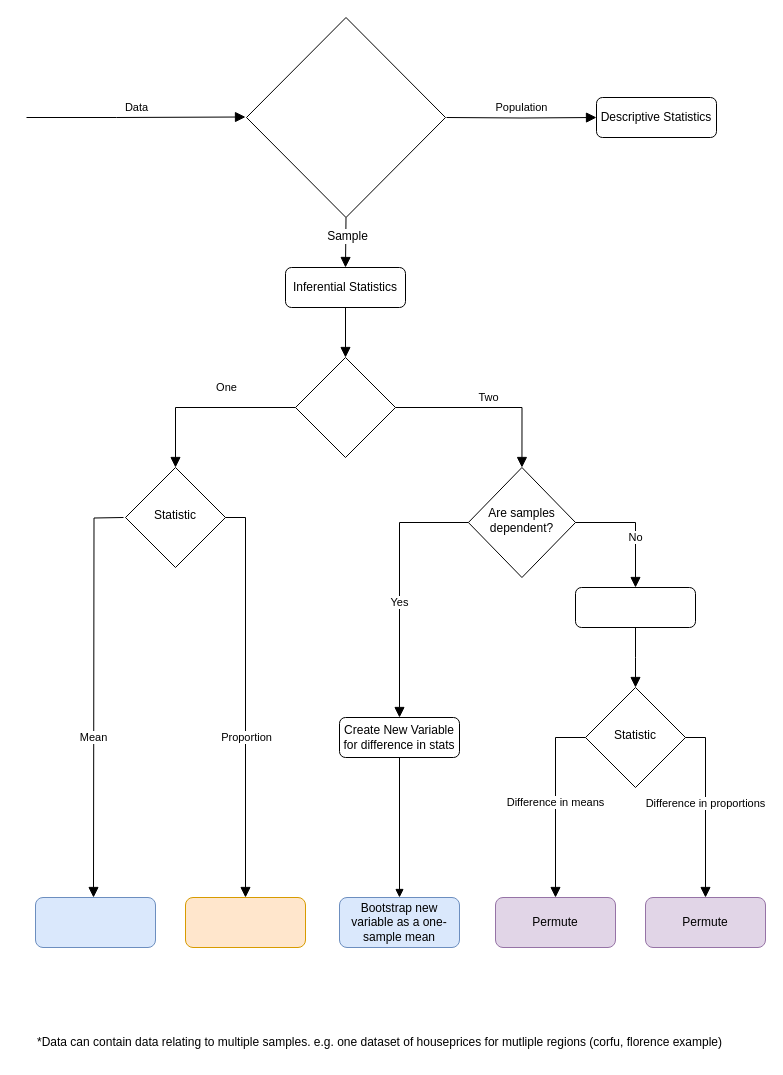
Image size: 783x1075. Some labels were removed from this diagram. The shapes that lost their labels are listed below. From the top down, each one's centre as x and y in pixels, then its label:
(346,117): Is Data for the whole population or is it a sample?
(345,407): How Many Samples?*
(635,607): Samples are independent
(95,922): Bootstrap
(245,922): Draw
